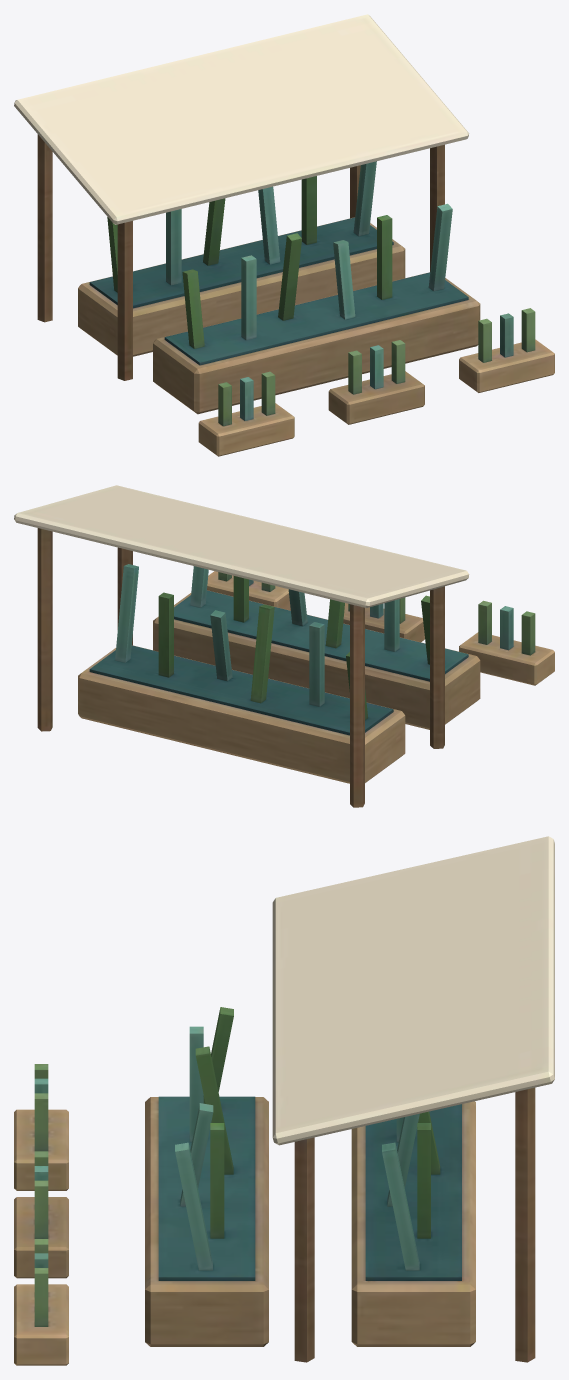
The model's file is greenhouse-2-age1.glb.
3 renders of one model, top to bottom at view 1: azimuth 30°, elevation 25°; view 2: azimuth 150°, elevation 25°; view 3: azimuth 270°, elevation 25°, orthographic. The views are drawn at different scales.
Parts seen in each view (by area): view 1: greenhouse-2-age1; view 2: greenhouse-2-age1; view 3: greenhouse-2-age1.
Part boxes in pixels (x1,y1,x2,y2): greenhouse-2-age1: (14,14,554,456); greenhouse-2-age1: (14,485,554,807); greenhouse-2-age1: (14,836,554,1365).
Bounding box in the file's own units: 0.82 × 0.4791 × 0.7847.
Materials: 1 (1 with a texture image).
